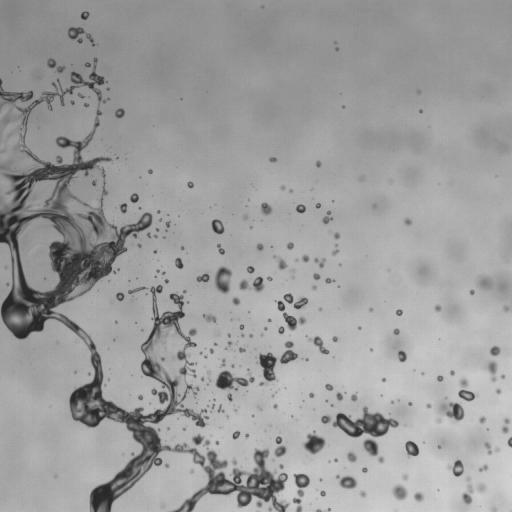droplet: (425, 396, 464, 425), (301, 430, 325, 454), (214, 266, 232, 294), (458, 377, 477, 401), (238, 276, 264, 292), (336, 474, 357, 489), (483, 360, 497, 382), (446, 458, 463, 476), (274, 436, 287, 457), (475, 275, 492, 290), (404, 440, 419, 457), (392, 484, 407, 500), (211, 219, 225, 234), (260, 202, 272, 215), (196, 271, 209, 283), (322, 210, 333, 224), (345, 450, 357, 462), (314, 257, 326, 268), (203, 313, 216, 323), (489, 345, 500, 356), (60, 76, 71, 87), (102, 105, 113, 116), (80, 150, 91, 161), (25, 160, 36, 171), (3, 178, 14, 189), (3, 193, 14, 204), (103, 211, 114, 222), (291, 246, 302, 257), (319, 247, 330, 258), (281, 250, 292, 261), (324, 255, 335, 266), (217, 256, 228, 267), (306, 261, 317, 272), (490, 276, 501, 287), (227, 277, 238, 288), (156, 292, 167, 303), (52, 303, 63, 314), (194, 319, 205, 330), (224, 350, 235, 361), (272, 362, 283, 373), (230, 367, 241, 378), (315, 386, 326, 397), (197, 391, 208, 402), (413, 398, 424, 409), (123, 402, 134, 413), (426, 408, 437, 419), (207, 410, 218, 421), (442, 415, 453, 426), (131, 442, 142, 453), (196, 443, 207, 454), (317, 446, 328, 457), (356, 447, 367, 458), (478, 452, 489, 463), (263, 459, 274, 470), (245, 460, 256, 471), (461, 462, 472, 473), (347, 466, 358, 477), (198, 474, 209, 485), (134, 478, 145, 489), (284, 478, 295, 489), (274, 490, 285, 501), (80, 495, 91, 506), (317, 497, 328, 508), (413, 492, 424, 502), (174, 257, 183, 269), (397, 350, 406, 362), (115, 108, 125, 118), (119, 203, 128, 213), (0, 241, 8, 252), (461, 503, 472, 511), (80, 11, 89, 20), (296, 204, 305, 213), (232, 296, 241, 305), (238, 344, 247, 353), (74, 18, 83, 27), (19, 84, 28, 93), (19, 99, 28, 108), (2, 101, 11, 110), (10, 134, 19, 143), (305, 202, 314, 211), (317, 207, 326, 216), (124, 234, 133, 243), (318, 268, 327, 277), (482, 268, 491, 277), (246, 273, 255, 282), (98, 275, 107, 284), (154, 276, 163, 285), (246, 285, 255, 294), (161, 286, 170, 295), (169, 303, 178, 312), (284, 304, 293, 313), (43, 318, 52, 327), (28, 330, 37, 339), (272, 349, 281, 358), (99, 361, 108, 370), (184, 373, 193, 382), (190, 377, 199, 386), (494, 378, 503, 387), (154, 382, 163, 391), (101, 391, 110, 400), (458, 398, 467, 407), (182, 399, 191, 408), (222, 400, 231, 409), (100, 417, 109, 426), (185, 417, 194, 426), (193, 425, 202, 434), (360, 431, 369, 440), (373, 435, 382, 444), (268, 441, 277, 450), (338, 454, 347, 463), (116, 461, 125, 470), (224, 471, 233, 480), (99, 475, 108, 484), (349, 486, 358, 495), (405, 489, 414, 498), (203, 491, 212, 500), (388, 494, 397, 503), (110, 499, 119, 508), (130, 193, 138, 203), (478, 464, 488, 472), (246, 265, 255, 273), (116, 292, 124, 301), (502, 304, 511, 312), (232, 430, 240, 439), (81, 505, 92, 511), (240, 505, 251, 511), (285, 505, 296, 511), (404, 217, 412, 225), (301, 254, 309, 262), (336, 392, 343, 401), (350, 392, 357, 401), (217, 403, 224, 412), (325, 383, 333, 390), (478, 416, 486, 423), (401, 473, 408, 481), (0, 107, 5, 118), (0, 153, 5, 164), (0, 241, 5, 252), (0, 292, 5, 303), (325, 278, 335, 283), (187, 181, 194, 188), (256, 243, 263, 250), (286, 242, 293, 249), (313, 273, 320, 280), (434, 304, 441, 311), (395, 309, 402, 316), (256, 404, 263, 411), (359, 490, 366, 497), (82, 37, 89, 44), (55, 59, 62, 66), (95, 68, 102, 75), (82, 74, 89, 81), (47, 85, 54, 92), (100, 91, 107, 98), (14, 98, 21, 105), (14, 118, 21, 125), (96, 160, 103, 167), (9, 190, 16, 197), (126, 201, 133, 208), (151, 214, 158, 221), (244, 218, 251, 225), (158, 222, 165, 229), (146, 225, 153, 232), (138, 229, 145, 236), (262, 242, 269, 249), (284, 257, 291, 264), (271, 260, 278, 267), (110, 261, 117, 268), (224, 262, 231, 269), (314, 266, 321, 273), (319, 273, 326, 280), (208, 275, 215, 282), (317, 277, 324, 284), (246, 279, 253, 286), (469, 282, 476, 289), (214, 288, 221, 295), (176, 317, 183, 324), (147, 320, 154, 327), (66, 328, 73, 335), (6, 330, 13, 337), (18, 337, 25, 344), (322, 341, 329, 348), (290, 345, 297, 352), (95, 346, 102, 353), (184, 346, 191, 353), (84, 349, 91, 356), (138, 353, 145, 360), (392, 353, 399, 360), (489, 354, 496, 361), (223, 364, 230, 371), (256, 365, 263, 372), (195, 369, 202, 376), (494, 369, 501, 376), (484, 370, 491, 377), (442, 371, 449, 378), (211, 373, 218, 380), (86, 375, 93, 382), (198, 381, 205, 388), (223, 386, 230, 393), (329, 389, 336, 396), (64, 390, 71, 397), (342, 393, 349, 400), (456, 397, 463, 404), (63, 399, 70, 406), (113, 399, 120, 406), (134, 400, 141, 407), (159, 403, 166, 410), (193, 406, 200, 413), (251, 407, 258, 414), (367, 407, 374, 414), (141, 408, 148, 415), (163, 414, 170, 421), (329, 414, 336, 421), (349, 414, 356, 421), (75, 420, 82, 427), (497, 420, 504, 427), (119, 421, 126, 428), (150, 422, 157, 429), (315, 430, 322, 437), (156, 431, 163, 438), (502, 433, 509, 440), (237, 434, 244, 441), (323, 437, 330, 444), (159, 438, 166, 445), (188, 441, 195, 448), (208, 443, 215, 450), (376, 445, 383, 452), (302, 448, 309, 455), (157, 450, 164, 457), (267, 450, 274, 457), (175, 451, 182, 458), (125, 454, 132, 461), (216, 454, 223, 461), (278, 454, 285, 461), (370, 454, 377, 461), (339, 470, 346, 477), (470, 479, 477, 486), (400, 480, 407, 487), (416, 486, 423, 493), (460, 486, 467, 493), (185, 491, 192, 498), (215, 493, 222, 500), (422, 493, 429, 500), (250, 495, 257, 502), (457, 497, 464, 504), (398, 498, 405, 505), (319, 503, 326, 510), (91, 179, 97, 187), (268, 157, 277, 162), (506, 371, 511, 380), (77, 92, 84, 98), (315, 160, 321, 167), (164, 220, 170, 227), (215, 330, 221, 337), (436, 375, 443, 381), (308, 391, 314, 398), (358, 175, 364, 181), (242, 214, 248, 220), (393, 328, 399, 334), (332, 336, 338, 342), (495, 388, 501, 394), (361, 467, 367, 473), (146, 231, 151, 238), (84, 62, 90, 67), (280, 184, 285, 190), (266, 276, 272, 281), (311, 285, 317, 290), (469, 289, 474, 295), (239, 324, 244, 330), (209, 348, 214, 354), (138, 394, 143, 400), (273, 403, 278, 409), (320, 490, 325, 496), (507, 309, 511, 316), (507, 422, 511, 429), (507, 429, 511, 436), (191, 507, 198, 511), (148, 169, 153, 174), (315, 203, 320, 208), (43, 276, 48, 281), (450, 370, 455, 375), (500, 374, 505, 379), (200, 376, 205, 381), (381, 377, 386, 382), (333, 457, 338, 462), (278, 464, 283, 469), (189, 468, 194, 473), (160, 503, 165, 508), (86, 15, 91, 20), (63, 26, 68, 31), (83, 27, 88, 32), (77, 33, 82, 38), (90, 33, 95, 38), (88, 58, 93, 63), (51, 66, 56, 71), (74, 68, 79, 73), (56, 72, 61, 77), (103, 75, 108, 80), (87, 77, 92, 82), (93, 83, 98, 88), (16, 87, 21, 92), (30, 96, 35, 101), (27, 98, 32, 103), (98, 106, 103, 111), (120, 115, 125, 120), (98, 120, 103, 125), (95, 125, 100, 130), (92, 133, 97, 138), (88, 140, 93, 145), (95, 152, 100, 157), (102, 152, 107, 157), (270, 152, 275, 157), (27, 156, 32, 161), (270, 161, 275, 166), (320, 161, 325, 166), (192, 180, 197, 185), (276, 181, 281, 186), (104, 185, 109, 190), (284, 186, 289, 191), (102, 194, 107, 199), (313, 198, 318, 203), (102, 199, 107, 204), (266, 200, 271, 205), (133, 201, 138, 206), (256, 204, 261, 209), (291, 204, 296, 209), (116, 208, 121, 213), (139, 209, 144, 214), (265, 213, 270, 218), (212, 214, 217, 219), (407, 214, 412, 219), (161, 217, 166, 222), (132, 218, 137, 223), (399, 219, 404, 224), (207, 224, 212, 229), (405, 224, 410, 229), (143, 227, 148, 232), (212, 231, 217, 236), (338, 231, 343, 236), (329, 233, 334, 238), (257, 238, 262, 243), (334, 238, 339, 243), (283, 239, 288, 244), (252, 242, 257, 247), (220, 243, 225, 248), (292, 244, 297, 249), (330, 245, 335, 250), (256, 249, 261, 254), (335, 252, 340, 257), (297, 255, 302, 260), (308, 256, 313, 261), (180, 258, 185, 263), (302, 261, 307, 266), (323, 261, 328, 266), (6, 266, 11, 271), (282, 267, 287, 272), (108, 271, 113, 276), (163, 273, 168, 278), (308, 274, 313, 279), (261, 279, 266, 284), (312, 279, 317, 284), (199, 280, 204, 285), (160, 281, 165, 286), (136, 282, 141, 287), (473, 287, 478, 292), (139, 289, 144, 294), (85, 290, 90, 295), (122, 290, 127, 295), (176, 290, 181, 295), (132, 291, 137, 296), (147, 291, 152, 296), (301, 292, 306, 297), (111, 294, 116, 299), (181, 297, 186, 302), (292, 297, 297, 302), (434, 299, 439, 304), (228, 300, 233, 305), (282, 300, 287, 305), (504, 300, 509, 305), (233, 304, 238, 309), (396, 304, 401, 309), (429, 305, 434, 310), (440, 305, 445, 310), (50, 306, 55, 311), (498, 306, 503, 311), (181, 307, 186, 312), (391, 307, 396, 312), (278, 310, 283, 315), (435, 310, 440, 315), (157, 311, 162, 316), (211, 311, 216, 316), (200, 317, 205, 322), (75, 320, 80, 325), (208, 320, 213, 325), (282, 321, 287, 326), (295, 322, 300, 327), (273, 327, 278, 332), (146, 328, 151, 333), (241, 328, 246, 333), (85, 329, 90, 334), (195, 329, 200, 334), (183, 331, 188, 336), (332, 331, 337, 336), (243, 333, 248, 338), (310, 333, 315, 338), (143, 334, 148, 339), (189, 336, 194, 341), (77, 337, 82, 342), (93, 340, 98, 345), (493, 341, 498, 346), (487, 343, 492, 348), (212, 345, 217, 350), (314, 345, 319, 350), (282, 346, 287, 351), (204, 349, 209, 354), (262, 350, 267, 355), (404, 350, 409, 355), (320, 352, 325, 357), (405, 353, 410, 358), (186, 356, 191, 361), (287, 360, 292, 365), (189, 364, 194, 369), (220, 366, 225, 371), (89, 367, 94, 372), (415, 369, 420, 374), (432, 373, 437, 378), (146, 375, 151, 380), (195, 375, 200, 380), (260, 376, 265, 381), (203, 377, 208, 382), (101, 378, 106, 383), (267, 380, 272, 385), (329, 380, 334, 385), (99, 384, 104, 389), (238, 384, 243, 389), (457, 385, 462, 390), (215, 386, 220, 391), (499, 386, 504, 391), (69, 387, 74, 392), (187, 388, 192, 393), (311, 388, 316, 393), (491, 390, 496, 395), (355, 392, 360, 397), (153, 394, 158, 399), (272, 398, 277, 403), (429, 399, 434, 404), (469, 399, 474, 404), (163, 400, 168, 405), (325, 401, 330, 406), (213, 404, 218, 409), (427, 407, 432, 412), (149, 408, 154, 413), (66, 411, 71, 416), (344, 411, 349, 416), (383, 414, 388, 419), (462, 414, 467, 419), (474, 416, 479, 421), (202, 417, 207, 422), (316, 417, 321, 422), (458, 418, 463, 423), (482, 421, 487, 426), (334, 425, 339, 430), (387, 425, 392, 430), (89, 426, 94, 431), (497, 427, 502, 432), (127, 430, 132, 435), (341, 431, 346, 436), (345, 434, 350, 439), (200, 439, 205, 444), (413, 439, 418, 444), (178, 440, 183, 445), (169, 443, 174, 448), (416, 443, 421, 448), (489, 445, 494, 450), (258, 446, 263, 451), (482, 447, 487, 452), (284, 448, 289, 453), (344, 448, 349, 453), (249, 449, 254, 454), (188, 452, 193, 457), (409, 454, 414, 459), (383, 457, 388, 462), (161, 458, 166, 463), (460, 459, 465, 464), (478, 462, 483, 467), (150, 463, 155, 468), (159, 463, 164, 468), (195, 463, 200, 468), (487, 463, 492, 468), (281, 467, 286, 472), (295, 469, 300, 474), (448, 470, 453, 475), (305, 471, 310, 476), (459, 473, 464, 478), (407, 474, 412, 479), (335, 478, 340, 483), (308, 479, 313, 484), (483, 480, 488, 485), (134, 481, 139, 486), (293, 485, 298, 490), (301, 486, 306, 491), (193, 487, 198, 492), (347, 487, 352, 492), (126, 488, 131, 493), (364, 489, 369, 494), (468, 492, 473, 497), (294, 493, 299, 498), (356, 494, 361, 499), (299, 496, 304, 501), (360, 496, 365, 501), (299, 501, 304, 506), (175, 503, 180, 508), (83, 103, 89, 107), (290, 268, 296, 272), (245, 433, 249, 439), (491, 507, 497, 511), (416, 90, 421, 94), (70, 100, 74, 105), (289, 188, 293, 193), (153, 234, 158, 238), (137, 243, 141, 248), (180, 245, 184, 250), (164, 279, 169, 283), (369, 307, 373, 312), (234, 340, 238, 345), (213, 342, 218, 346), (230, 363, 234, 368), (215, 440, 219, 445), (335, 47, 339, 51), (418, 109, 422, 113), (372, 204, 376, 208), (158, 218, 162, 222), (249, 225, 253, 229), (155, 227, 159, 231), (153, 249, 157, 253), (161, 271, 165, 275), (290, 275, 294, 279), (318, 307, 322, 311), (267, 318, 271, 322), (357, 326, 361, 330), (249, 333, 253, 337), (199, 351, 203, 355), (390, 400, 394, 404), (408, 402, 412, 406), (233, 408, 237, 412), (437, 445, 441, 449), (156, 210, 161, 213), (508, 416, 511, 421), (271, 508, 276, 511), (300, 508, 305, 511), (341, 105, 345, 108), (294, 258, 298, 261), (156, 269, 159, 273), (6, 282, 9, 286), (264, 326, 267, 330), (227, 333, 230, 337), (241, 333, 244, 337), (260, 332, 263, 336), (369, 348, 373, 351), (238, 364, 242, 367), (107, 377, 110, 381), (324, 399, 328, 402), (330, 404, 334, 407), (226, 414, 229, 418), (182, 427, 186, 430), (318, 478, 322, 481), (0, 315, 2, 320), (261, 5, 264, 8), (334, 41, 337, 44), (106, 87, 109, 90), (116, 156, 119, 159), (138, 206, 141, 209), (338, 263, 341, 266), (230, 318, 233, 321), (134, 321, 137, 324), (204, 355, 207, 358), (87, 372, 90, 375), (421, 372, 424, 375), (206, 404, 209, 407), (251, 414, 254, 417), (290, 414, 293, 417), (167, 427, 170, 430), (271, 458, 274, 461), (54, 474, 57, 477), (81, 8, 84, 11), (85, 8, 88, 11), (78, 11, 81, 14), (81, 18, 84, 21), (92, 40, 95, 43), (88, 41, 91, 44), (79, 42, 82, 45), (335, 43, 338, 46), (92, 45, 95, 48), (338, 47, 341, 50), (332, 48, 335, 51), (82, 60, 85, 63), (54, 81, 57, 84), (0, 83, 3, 86), (342, 102, 345, 105), (118, 105, 121, 108), (338, 105, 341, 108), (122, 107, 125, 110), (343, 107, 346, 110), (18, 110, 21, 113), (123, 112, 126, 115), (418, 112, 421, 115), (115, 153, 118, 156), (116, 158, 119, 161), (313, 164, 316, 167), (146, 166, 149, 169), (151, 167, 154, 170), (103, 171, 106, 174), (149, 173, 152, 176), (104, 175, 107, 178), (186, 178, 189, 181), (189, 178, 192, 181), (104, 179, 107, 182), (185, 185, 188, 188), (290, 186, 293, 189), (278, 188, 281, 191), (129, 191, 132, 194), (331, 196, 334, 199), (244, 197, 247, 200), (137, 198, 140, 201), (328, 199, 331, 202), (333, 200, 336, 203), (119, 201, 122, 204), (297, 201, 300, 204), (302, 202, 305, 205), (320, 203, 323, 206), (156, 206, 159, 209), (317, 207, 320, 210), (159, 208, 162, 211), (168, 211, 171, 214), (296, 211, 299, 214), (302, 211, 305, 214), (332, 216, 335, 219), (328, 219, 331, 222), (320, 221, 323, 224), (168, 222, 171, 225), (163, 224, 166, 227), (246, 226, 249, 229), (166, 227, 169, 230), (223, 227, 226, 230), (251, 227, 254, 230), (155, 231, 158, 234), (221, 231, 224, 234), (161, 238, 164, 241), (289, 239, 292, 242), (140, 244, 143, 247), (272, 244, 275, 247), (135, 245, 138, 248), (183, 245, 186, 248), (177, 246, 180, 249), (336, 246, 339, 249), (152, 247, 155, 250), (215, 247, 218, 250), (269, 247, 272, 250), (183, 248, 186, 251), (156, 250, 159, 253), (216, 251, 219, 254), (223, 251, 226, 254), (152, 252, 155, 255), (8, 258, 11, 261), (339, 260, 342, 263), (335, 263, 338, 266), (341, 263, 344, 266), (252, 265, 255, 268), (176, 267, 179, 270), (159, 269, 162, 272), (270, 274, 273, 277), (127, 276, 130, 279), (132, 276, 135, 279), (329, 276, 332, 279), (193, 277, 196, 280), (334, 277, 337, 280), (270, 279, 273, 282), (330, 281, 333, 284), (326, 282, 329, 285), (140, 283, 143, 286), (339, 283, 342, 286), (153, 284, 156, 287), (308, 285, 311, 288), (130, 287, 133, 290), (336, 287, 339, 290), (118, 289, 121, 292), (169, 290, 172, 293), (466, 290, 469, 293), (283, 291, 286, 294), (305, 295, 308, 298), (122, 297, 125, 300), (116, 299, 119, 302), (170, 299, 173, 302), (304, 303, 307, 306), (317, 304, 320, 307), (369, 304, 372, 307), (247, 307, 250, 310), (149, 308, 152, 311), (315, 308, 318, 311), (321, 308, 324, 311), (365, 308, 368, 311), (372, 308, 375, 311), (244, 310, 247, 313), (368, 311, 371, 314), (204, 312, 207, 315), (248, 312, 251, 315), (401, 312, 404, 315), (150, 313, 153, 316), (199, 314, 202, 317), (395, 314, 398, 317), (264, 317, 267, 320), (116, 318, 119, 321), (135, 318, 138, 321), (215, 319, 218, 322), (111, 320, 114, 323), (131, 320, 134, 323), (240, 321, 243, 324), (267, 321, 270, 324), (136, 322, 139, 325), (358, 323, 361, 326), (236, 324, 239, 327), (243, 325, 246, 328), (360, 327, 363, 330), (355, 328, 358, 331), (262, 329, 265, 332), (390, 329, 393, 332), (251, 331, 254, 334), (398, 331, 401, 334), (392, 333, 395, 336), (252, 334, 255, 337), (238, 335, 241, 338), (114, 336, 117, 339), (109, 337, 112, 340), (227, 337, 230, 340), (215, 340, 218, 343), (224, 342, 227, 345), (371, 345, 374, 348), (137, 346, 140, 349), (235, 348, 238, 351), (366, 348, 369, 351), (223, 349, 226, 352), (241, 351, 244, 354), (303, 355, 306, 358), (308, 357, 311, 360), (302, 359, 305, 362), (219, 360, 222, 363), (231, 360, 234, 363), (305, 360, 308, 363), (451, 367, 454, 370), (71, 368, 74, 371), (420, 368, 423, 371), (76, 370, 79, 373), (194, 371, 197, 374), (439, 372, 442, 375), (418, 373, 421, 376), (423, 373, 426, 376), (504, 375, 507, 378), (378, 377, 381, 380), (385, 377, 388, 380), (435, 379, 438, 382), (440, 380, 443, 383), (187, 381, 190, 384), (323, 381, 326, 384), (382, 381, 385, 384), (191, 384, 194, 387), (261, 384, 264, 387), (198, 386, 201, 389), (286, 386, 289, 389), (322, 386, 325, 389), (280, 387, 283, 390), (271, 390, 274, 393), (277, 390, 280, 393), (379, 390, 382, 393), (340, 391, 343, 394), (136, 392, 139, 395), (185, 393, 188, 396), (274, 393, 277, 396), (313, 393, 316, 396), (382, 393, 385, 396), (194, 394, 197, 397), (306, 394, 309, 397), (230, 395, 233, 398), (142, 396, 145, 399), (379, 396, 382, 399), (473, 396, 476, 399), (225, 397, 228, 400), (309, 397, 312, 400), (408, 398, 411, 401), (349, 399, 352, 402), (387, 399, 390, 402), (393, 399, 396, 402), (404, 401, 407, 404), (411, 401, 414, 404), (276, 402, 279, 405), (209, 403, 212, 406), (270, 403, 273, 406), (390, 403, 393, 406), (234, 405, 237, 408), (276, 405, 279, 408), (408, 405, 411, 408), (201, 406, 204, 409), (206, 409, 209, 412), (219, 411, 222, 414), (250, 411, 253, 414), (292, 412, 295, 415), (322, 412, 325, 415), (248, 414, 251, 417), (292, 415, 295, 418), (252, 416, 255, 419), (288, 416, 291, 419), (204, 424, 207, 427), (488, 428, 491, 431), (231, 429, 234, 432), (229, 433, 232, 436), (278, 433, 281, 436), (248, 434, 251, 437), (273, 435, 276, 438), (235, 437, 238, 440), (218, 441, 221, 444), (439, 443, 442, 446), (505, 443, 508, 446), (434, 445, 437, 448), (438, 448, 441, 451), (404, 450, 407, 453), (491, 450, 494, 453), (336, 456, 339, 459), (330, 458, 333, 461), (324, 459, 327, 462), (168, 463, 171, 466), (362, 464, 365, 467), (366, 466, 369, 469), (475, 468, 478, 471), (481, 469, 484, 472), (361, 471, 364, 474), (332, 474, 335, 477), (321, 476, 324, 479), (320, 480, 323, 483), (433, 487, 436, 490), (439, 488, 442, 491), (317, 490, 320, 493), (324, 490, 327, 493), (322, 495, 325, 498), (327, 504, 330, 507), (314, 506, 317, 509), (37, 126, 39, 129), (331, 200, 334, 202), (166, 213, 169, 215), (162, 236, 165, 238), (270, 245, 273, 247), (5, 266, 7, 269), (154, 275, 157, 277), (337, 285, 340, 287), (186, 301, 189, 303), (115, 320, 117, 323), (113, 338, 115, 341), (74, 370, 76, 373), (284, 386, 286, 389), (219, 426, 222, 428), (486, 428, 489, 430), (422, 441, 425, 443), (328, 460, 330, 463), (437, 488, 439, 491), (394, 509, 397, 511), (329, 509, 332, 511), (496, 509, 499, 511), (180, 98, 182, 100), (139, 176, 141, 178), (245, 205, 247, 207), (165, 229, 167, 231), (145, 293, 147, 295), (248, 311, 250, 313), (141, 329, 143, 331), (254, 348, 256, 350), (413, 369, 415, 371), (380, 394, 382, 396), (302, 399, 304, 401), (509, 509, 511, 511), (0, 148, 1, 151), (178, 215, 179, 217), (136, 277, 137, 279), (128, 280, 130, 281), (246, 390, 247, 392), (344, 392, 346, 393), (149, 402, 150, 404), (313, 408, 314, 410), (204, 366, 205, 367), (177, 417, 178, 418)
ligament: (215, 368, 254, 391), (292, 473, 309, 511), (67, 27, 96, 46), (305, 334, 329, 354), (283, 293, 309, 309), (47, 58, 65, 73), (272, 255, 287, 270), (501, 417, 510, 433), (328, 231, 340, 239), (216, 243, 224, 255), (331, 243, 339, 255), (206, 370, 211, 385), (210, 398, 215, 413), (271, 389, 280, 397), (315, 507, 331, 511), (227, 392, 233, 402), (220, 357, 225, 367), (507, 435, 511, 447), (8, 131, 12, 137), (301, 358, 308, 361), (47, 184, 51, 187), (403, 424, 408, 426), (248, 198, 250, 201), (387, 269, 390, 271), (397, 398, 399, 401), (255, 510, 260, 511)
